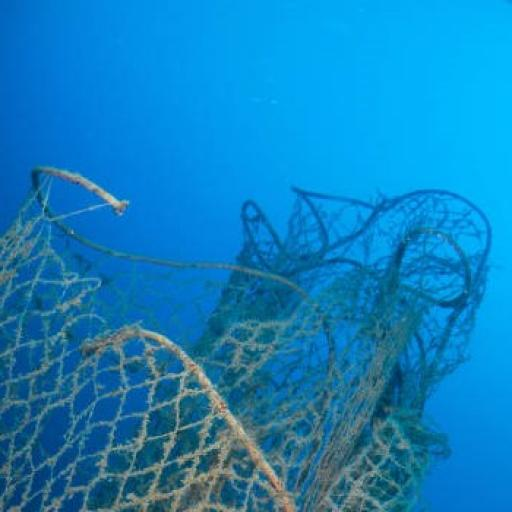net: (1, 135, 512, 512)
